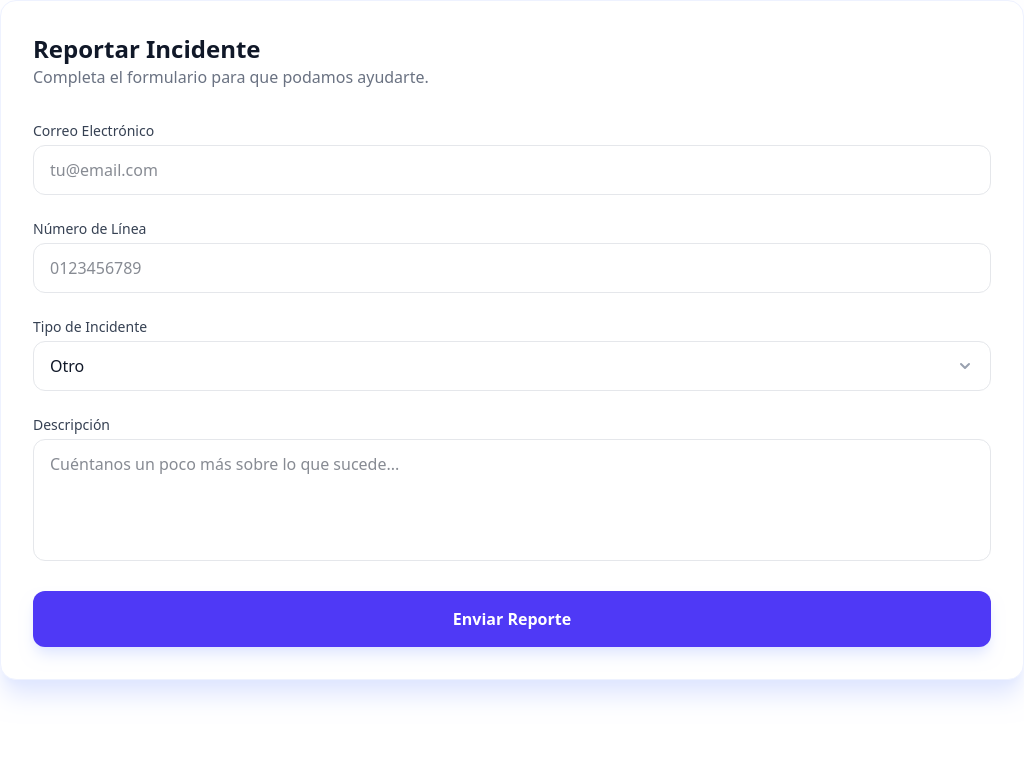
Test: IncidentForm › validates required fields locally (Zod)
This screenshot has width=1024, height=768.
Note: Click submit without filling anything
Click the button "Enviar Reporte" at (512, 619), box x1=33 y1=591 x2=991 y2=647
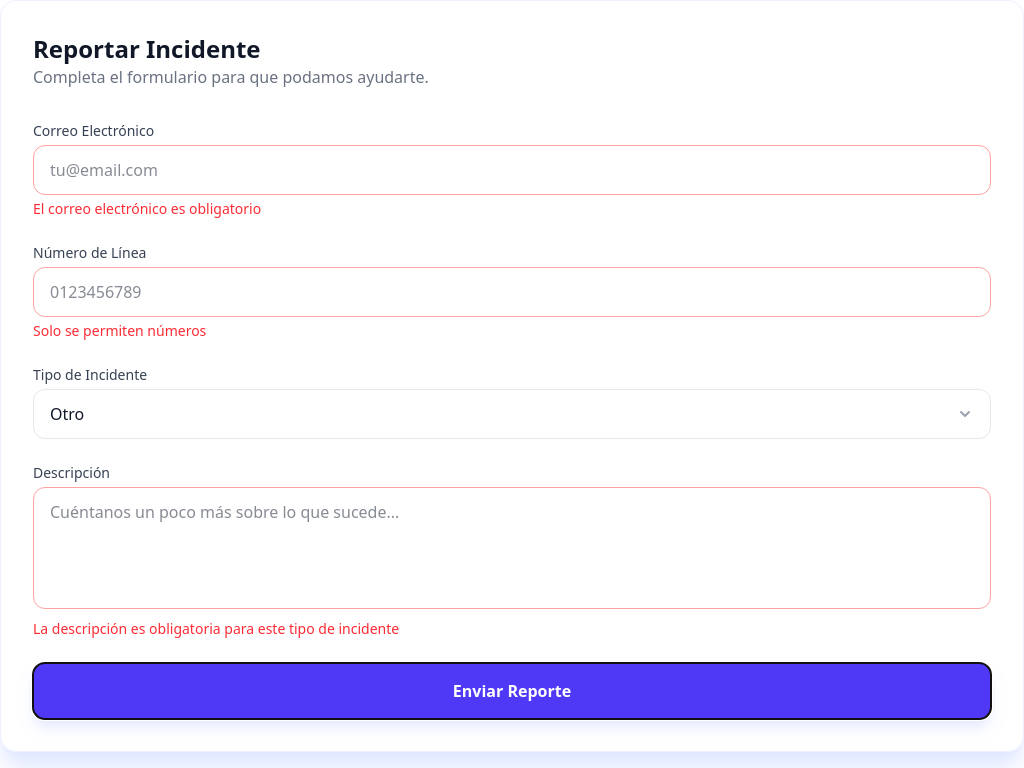
Expected: the text "El correo electrónico es obligatorio" is shown, x1=33 y1=199 x2=261 y2=218
Expected: the text "Solo se permiten números" is shown, x1=33 y1=321 x2=206 y2=340
